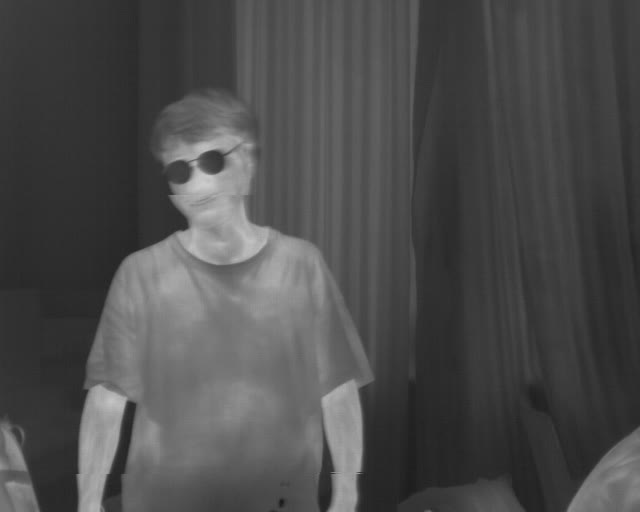face: (149, 87, 259, 230)
